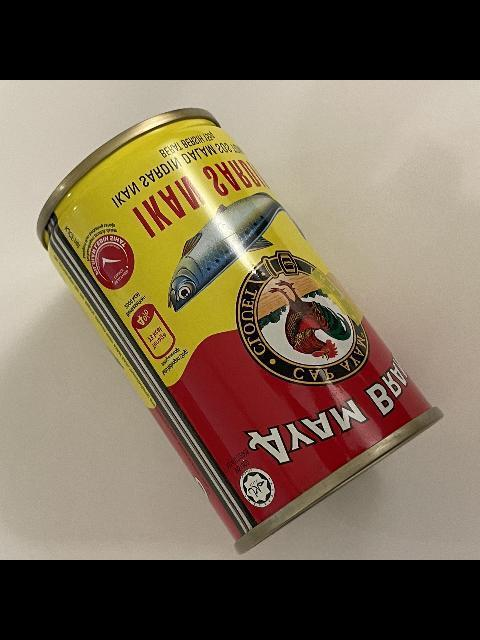foodcan: (32, 106, 446, 556)
